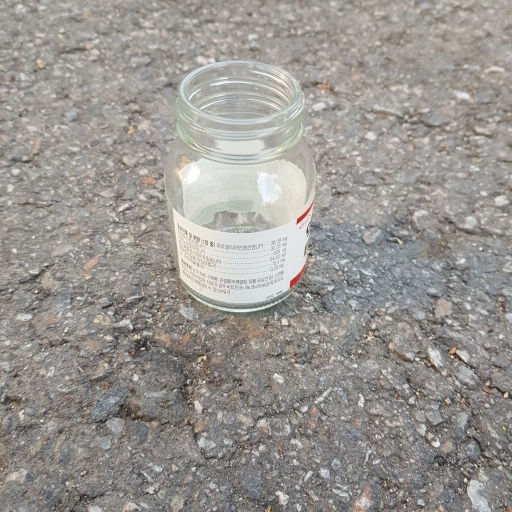Glass_5: (156, 54, 321, 316)
